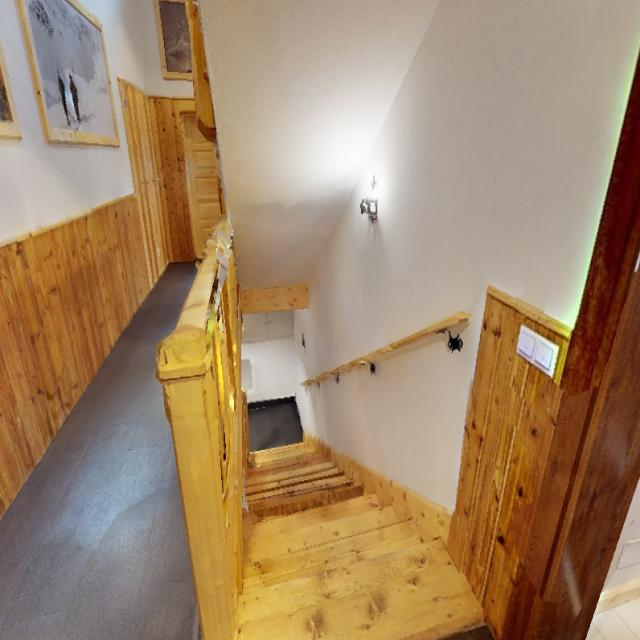door: (171, 115, 223, 264)
stairs: (181, 285, 484, 640)
